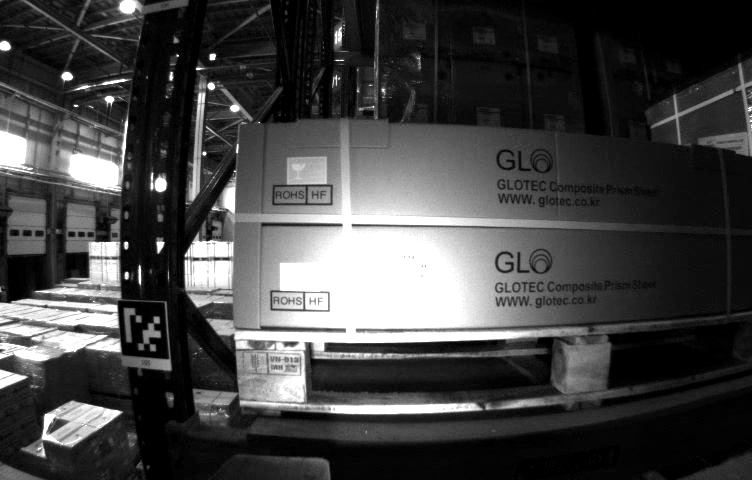True Barcode: (381, 254, 442, 310)
